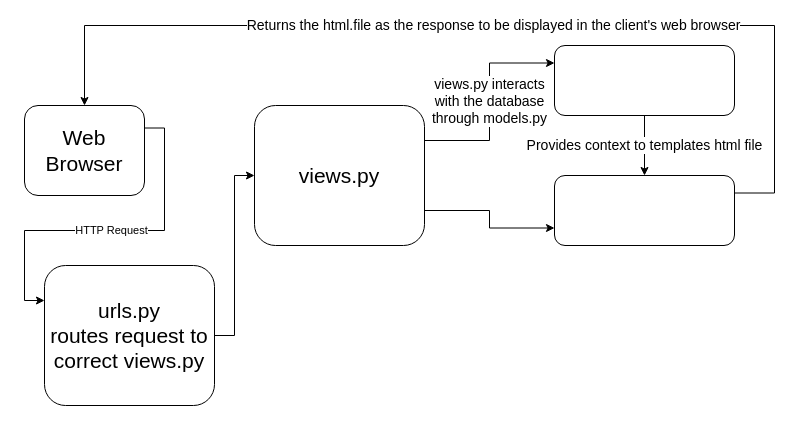
The diagram is 800 pixels wide and 423 high, and some of its shapes have lost their labels. Each missing label, with the box of its shape:
main.html: (554, 174, 734, 246)
models.py: (554, 44, 734, 116)
